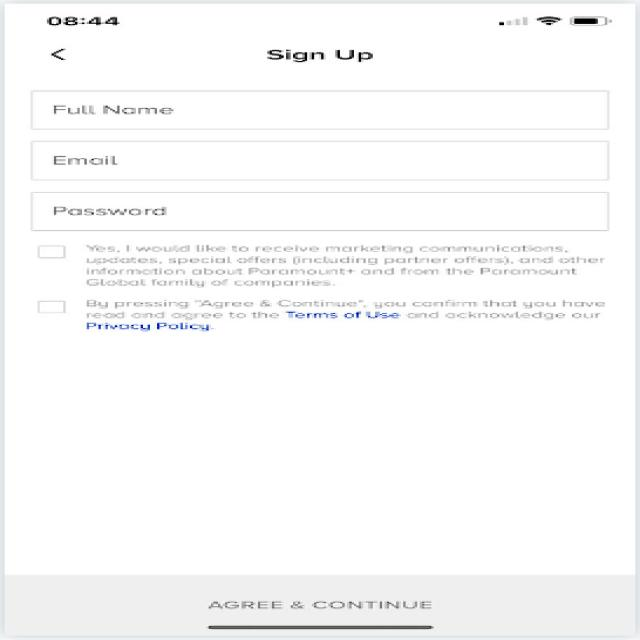icon button: (36, 41, 94, 68)
input: (15, 81, 624, 136), (15, 185, 626, 238), (15, 136, 624, 184)
spacer: (21, 350, 610, 566)
text: (18, 242, 624, 344), (182, 594, 439, 614), (259, 41, 394, 66)
